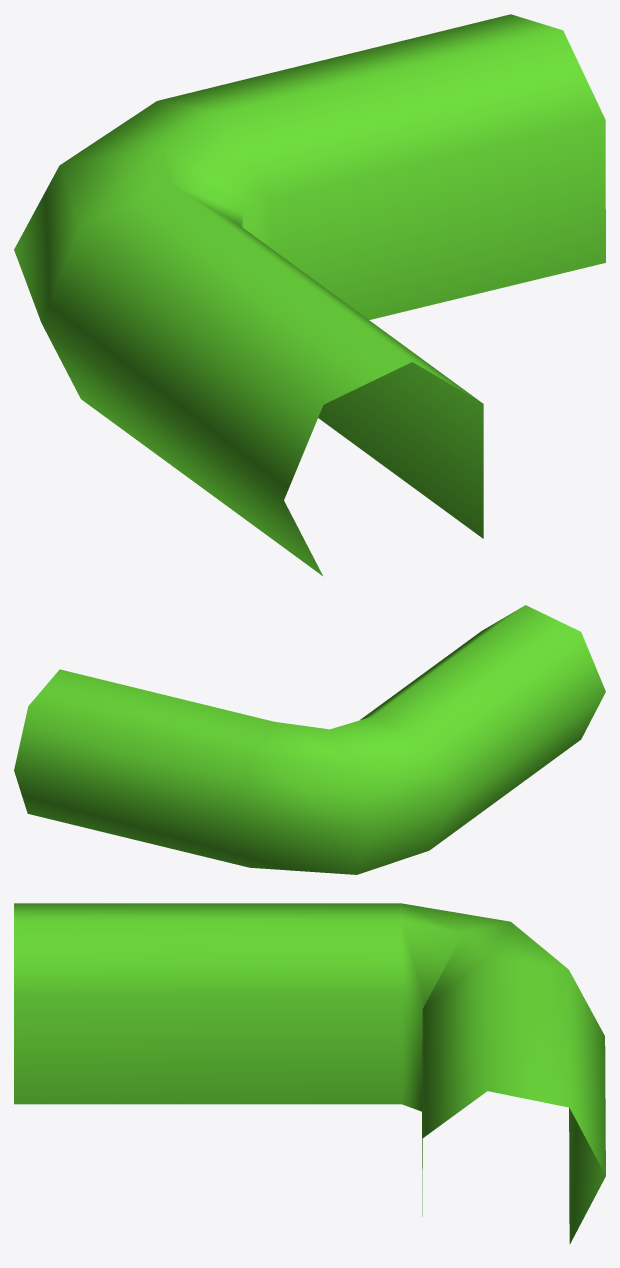
File: Norris_Maze_Green_Wire_LR.fbx
3 renders of one model, top to bottom at view 1: azimuth 30°, elevation 25°; view 2: azimuth 150°, elevation 25°; view 3: azimuth 270°, elevation 25°, orthographic. The views are drawn at different scales.
Visible parts, largest first — view 1: WireRight5; view 2: WireRight5; view 3: WireRight5.
Part boxes in pixels (<box>): WireRight5: <box>14,14,605,575</box>; WireRight5: <box>14,605,605,874</box>; WireRight5: <box>14,903,605,1244</box>.
Bounding box in the file's own units: 2.97 × 0.9959 × 3.3.
